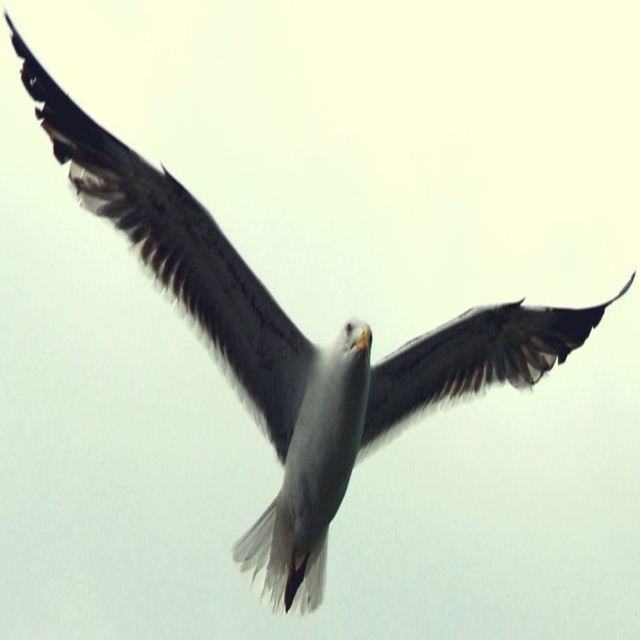Eagle: (0, 0, 640, 619)
